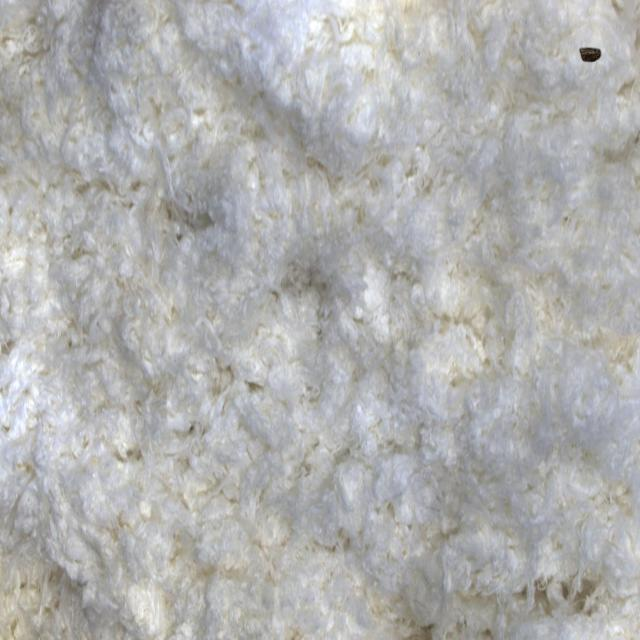dust: (563, 11, 621, 90)
